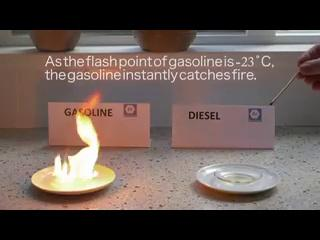Fire: (54, 111, 115, 187)
